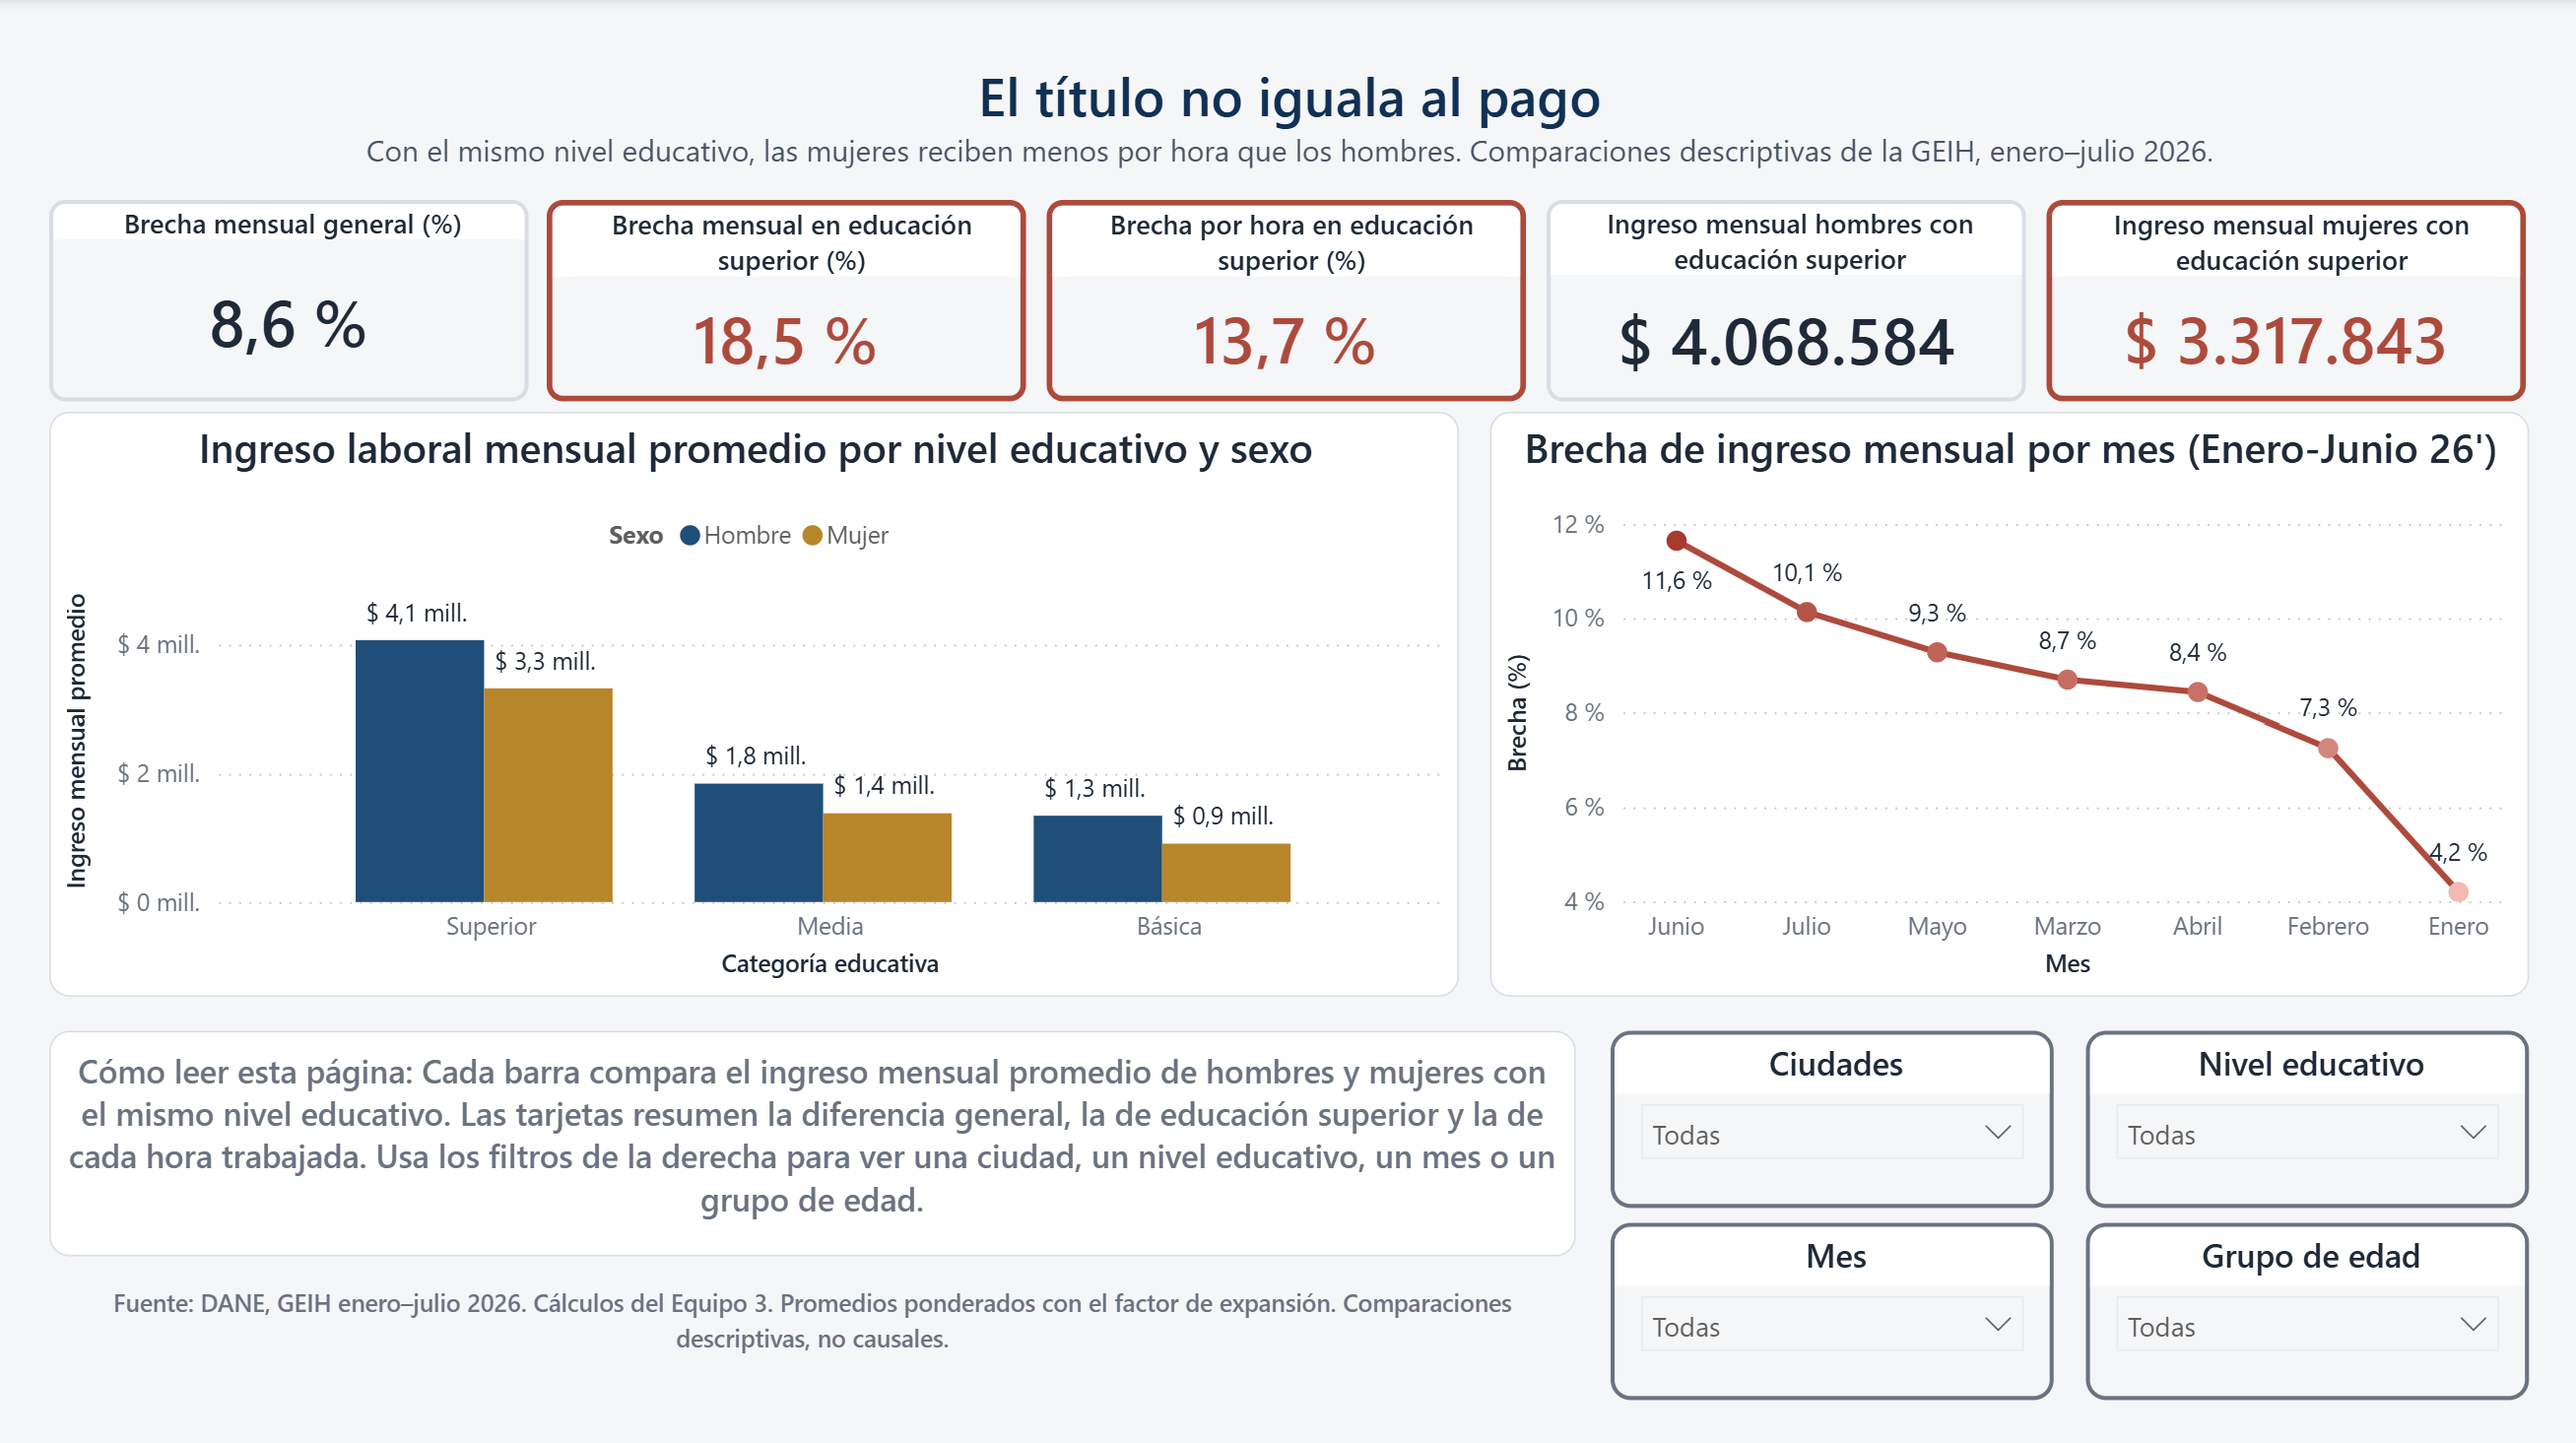

The dashboard page shown, as its layout file describes it:
{"tool":"powerbi","page":{"name":"Vista General","canvas":[1280,720],"ordinal":0},"visuals":[{"type":"textbox","box":[24.5,24.5,1232,65],"z":0},{"type":"cardVisual","title":"Brecha mensual general (%)","fields":{"Data":["Fact_Ocupados.Brecha_Salarial"]},"box":[24,100,238,100],"z":1000},{"type":"cardVisual","title":"Brecha mensual en educación superior (%)","fields":{"Data":["Fact_Ocupados.Brecha_EducSuperior"]},"box":[272,100,238,100],"z":2000},{"type":"cardVisual","title":"\tIngreso mensual hombres con educación superior","fields":{"Data":["Fact_Ocupados.Ingreso_Hombres_Superior_Texto"]},"box":[768,100,238,100],"z":3000},{"type":"cardVisual","title":"\tIngreso mensual mujeres con educación superior","fields":{"Data":["Fact_Ocupados.Ingreso_Mujeres_Superior_Texto"]},"box":[1016,100,238,100],"z":4000},{"type":"clusteredColumnChart","title":"Ingreso laboral mensual promedio por nivel educativo y sexo","fields":{"Category":["Dim_Educacion.Categoria"],"Series":["Dim_Sexo.Sexo"],"Y":["Fact_Ocupados.Ingreso_Promedio"]},"box":[24.5,206,700,290],"z":5000},{"type":"lineChart","title":"Brecha de ingreso mensual por mes (Enero-Junio 26'')","fields":{"Category":["Dim_Tiempo.Mes_Nombre"],"Y":["Fact_Ocupados.Brecha_Salarial"]},"box":[740,206,516,290],"z":6000},{"type":"slicer","title":"Ciudades","fields":{"Values":["Dim_Ciudad.Ciudad"]},"box":[800,512.4,220,88],"z":7000},{"type":"slicer","title":"Nivel educativo","fields":{"Values":["Dim_Educacion.Categoria"]},"box":[1036,511.8,220,88],"z":8000},{"type":"cardVisual","title":"Brecha por hora en educación superior (%)","fields":{"Data":["Fact_Ocupados.Brecha_Hora_EducSuperior"]},"box":[520,100,238,100],"z":9000},{"type":"slicer","title":"Grupo de edad","fields":{"Values":["Fact_Ocupados.Grupo_Edad"]},"box":[1036,608,220,88],"z":10000},{"type":"slicer","title":"Mes","fields":{"Values":["Dim_Tiempo.Mes_Nombre"]},"box":[800,608,220,88],"z":11000},{"type":"textbox","box":[24,512,758,112],"z":11001},{"type":"textbox","box":[24,632,758,56],"z":11002}]}

Visuals, with their boxes in screenshot pixels (x1, y1, x2, y2), scaled from the page's 1280x720 canvas onto the 2576x1443 screenshot:
textbox: left=49, top=49, right=2529, bottom=179
"Brecha mensual general (%)" cardVisual: left=48, top=200, right=527, bottom=401
"Brecha mensual en educación superior (%)" cardVisual: left=548, top=200, right=1026, bottom=401
"	Ingreso mensual hombres con educación superior" cardVisual: left=1546, top=200, right=2024, bottom=401
"	Ingreso mensual mujeres con educación superior" cardVisual: left=2045, top=200, right=2524, bottom=401
"Ingreso laboral mensual promedio por nivel educativo y sexo" clusteredColumnChart: left=49, top=413, right=1458, bottom=994
"Brecha de ingreso mensual por mes (Enero-Junio 26'')" lineChart: left=1489, top=413, right=2528, bottom=994
"Ciudades" slicer: left=1610, top=1027, right=2053, bottom=1204
"Nivel educativo" slicer: left=2085, top=1025, right=2528, bottom=1202
"Brecha por hora en educación superior (%)" cardVisual: left=1046, top=200, right=1526, bottom=401
"Grupo de edad" slicer: left=2085, top=1218, right=2528, bottom=1395
"Mes" slicer: left=1610, top=1218, right=2053, bottom=1395
textbox: left=48, top=1026, right=1574, bottom=1251
textbox: left=48, top=1267, right=1574, bottom=1379
